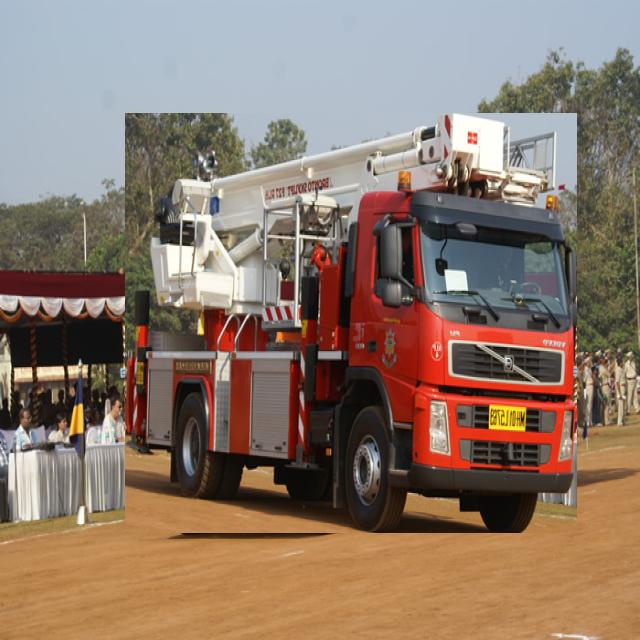emergency: (126, 114, 577, 533)
